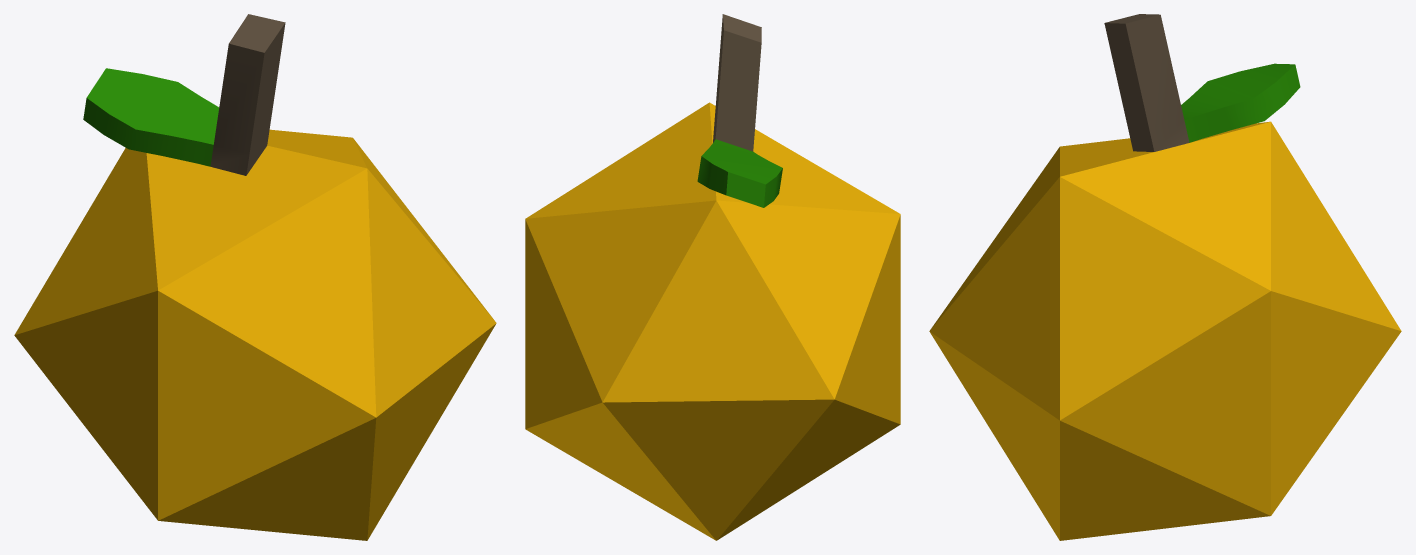
Rendered from YellowFruit.fbx.
3 views of the same model, side by side, from view 1: azimuth 30°, elevation 25°; view 2: azimuth 150°, elevation 25°; view 3: azimuth 270°, elevation 25° (orthographic). The views are drawn at different scales.
Visible parts, largest first — view 1: pPlatonic1.006, pPlatonic1.008, pPlatonic1.007; view 2: pPlatonic1.006, pPlatonic1.007, pPlatonic1.008; view 3: pPlatonic1.006, pPlatonic1.007, pPlatonic1.008.
Part boxes in pixels (x1=…): pPlatonic1.006: x1=14, y1=129, x2=496, y2=540; pPlatonic1.008: x1=83, y1=68, x2=219, y2=166; pPlatonic1.007: x1=210, y1=14, x2=285, y2=175; pPlatonic1.006: x1=525, y1=102, x2=900, y2=540; pPlatonic1.007: x1=713, y1=14, x2=761, y2=151; pPlatonic1.008: x1=697, y1=139, x2=782, y2=207; pPlatonic1.006: x1=929, y1=121, x2=1401, y2=540; pPlatonic1.007: x1=1104, y1=14, x2=1189, y2=151; pPlatonic1.008: x1=1181, y1=63, x2=1300, y2=142.
Bounding box in the file's own units: 52.15 × 67.32 × 58.31.
